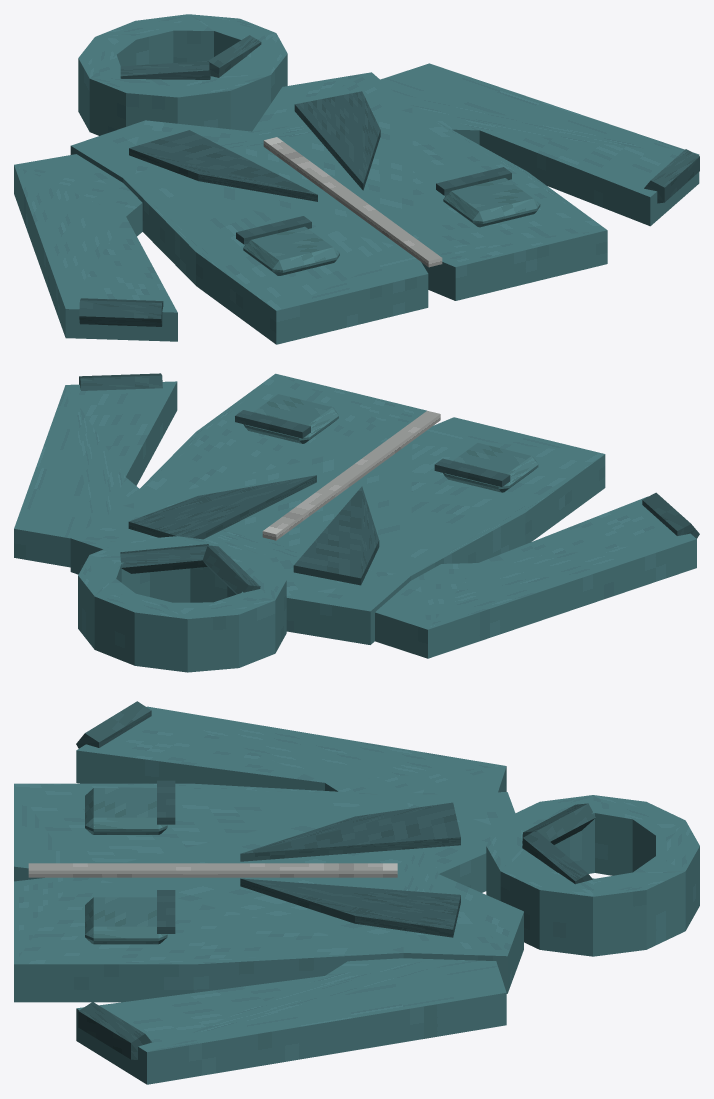
The model's file is jacket_windbreaker.glb.
3 views of the same model, one above another, from view 1: azimuth 30°, elevation 25°; view 2: azimuth 150°, elevation 25°; view 3: azimuth 270°, elevation 25° (orthographic). The views are drawn at different scales.
Parts seen in each view (by area): view 1: block_coat body, block_sleeve (×2), block_hood, block_lapel (×2), block_patch pocket (×2), block_cuff 0 (×2), block_zipper track, block_pocket welt (×2), block_hood facing 0, block_hood facing 1; view 2: block_coat body, block_sleeve (×2), block_hood, block_lapel (×2), block_patch pocket (×2), block_zipper track, block_cuff 0 (×2), block_pocket welt (×2), block_hood facing 1, block_hood facing 0; view 3: block_coat body, block_sleeve (×2), block_hood, block_lapel (×2), block_patch pocket (×2), block_zipper track, block_cuff 0 (×2), block_pocket welt (×2), block_hood facing 1, block_hood facing 0.
Part boxes in pixels (box(x1,y1,x2,y2)): block_coat body: box(70, 72, 607, 344); block_sleeve (×2): box(14, 63, 699, 341); block_hood: box(78, 14, 287, 135); block_lapel (×2): box(129, 91, 380, 201); block_patch pocket (×2): box(243, 178, 540, 275); block_cuff 0 (×2): box(79, 149, 699, 326); block_zipper track: box(263, 137, 442, 267); block_pocket welt (×2): box(236, 167, 511, 244); block_hood facing 0: box(120, 60, 210, 79); block_hood facing 1: box(207, 35, 261, 77); block_coat body: box(70, 373, 605, 644); block_sleeve (×2): box(14, 381, 696, 658); block_hood: box(78, 536, 286, 672); block_lapel (×2): box(128, 475, 379, 585); block_patch pocket (×2): box(243, 394, 538, 492); block_zipper track: box(262, 410, 440, 540); block_cuff 0 (×2): box(79, 373, 699, 538); block_pocket welt (×2): box(235, 410, 510, 486); block_hood facing 1: box(120, 544, 208, 573); block_hood facing 0: box(202, 545, 260, 594); block_coat body: box(14, 783, 523, 1002); block_sleeve (×2): box(76, 706, 506, 1084); block_hood: box(486, 795, 699, 956); block_lapel (×2): box(240, 802, 460, 937); block_patch pocket (×2): box(85, 788, 167, 944); block_zipper track: box(28, 863, 397, 877); block_cuff 0 (×2): box(76, 701, 151, 1059); block_pocket welt (×2): box(157, 780, 175, 933); block_hood facing 1: box(522, 830, 592, 884); block_hood facing 0: box(522, 803, 595, 844).
Size of the model in its own units: 0.6224 by 0.0682 by 0.5219.
Materials: 1 (1 with a texture image).
